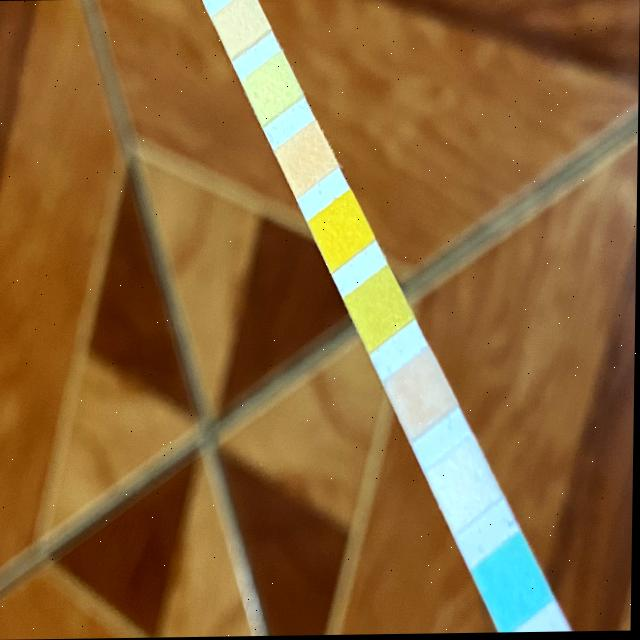Bilirubin: (445, 454, 484, 516)
Blood: (323, 208, 362, 256)
Glucose: (491, 553, 534, 614)
Ketone: (401, 367, 442, 422)
Protein: (254, 67, 289, 111)
SpGravity: (360, 283, 400, 334)
Urobilinogen: (222, 5, 257, 44)
pH: (288, 139, 326, 181)
